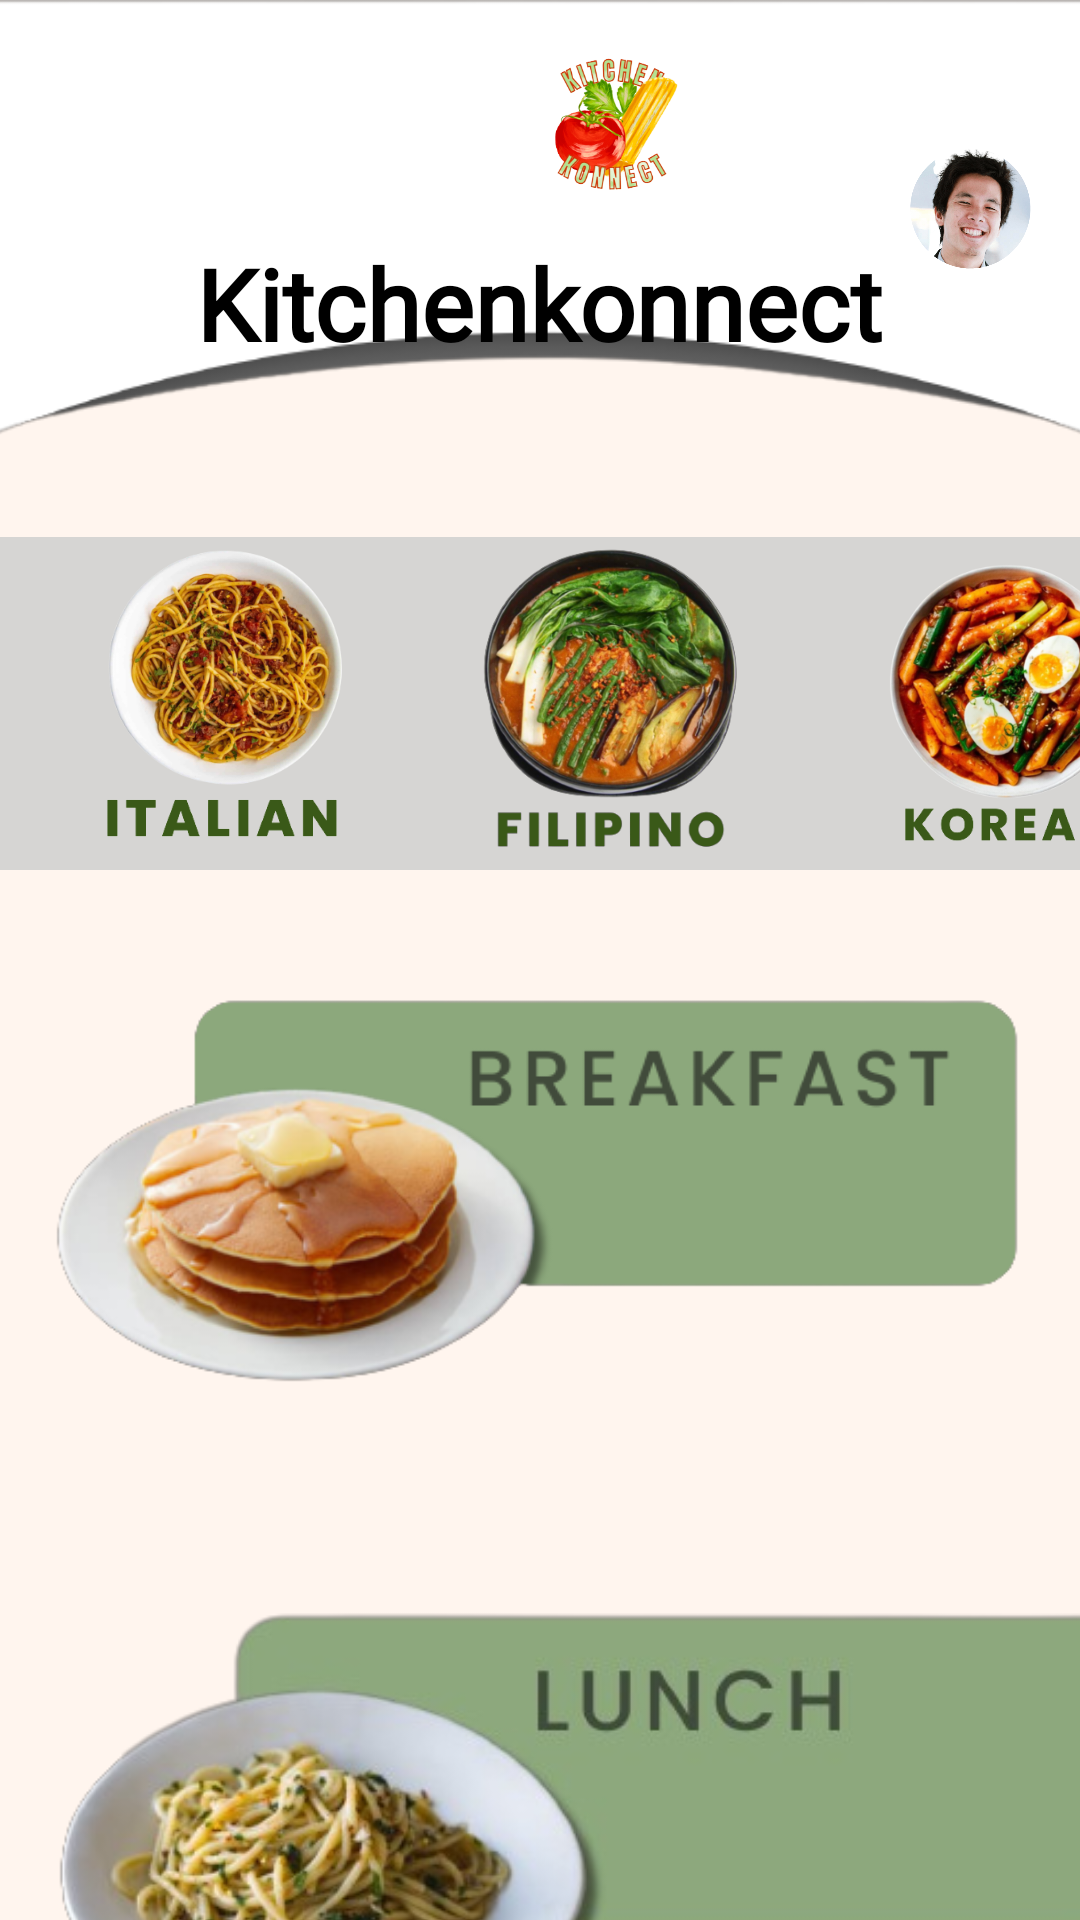

Where icons sit on this 1080 × 1920 app screen, as (x1, y1, x2, y2):
profile user: (910, 150, 1030, 269)
